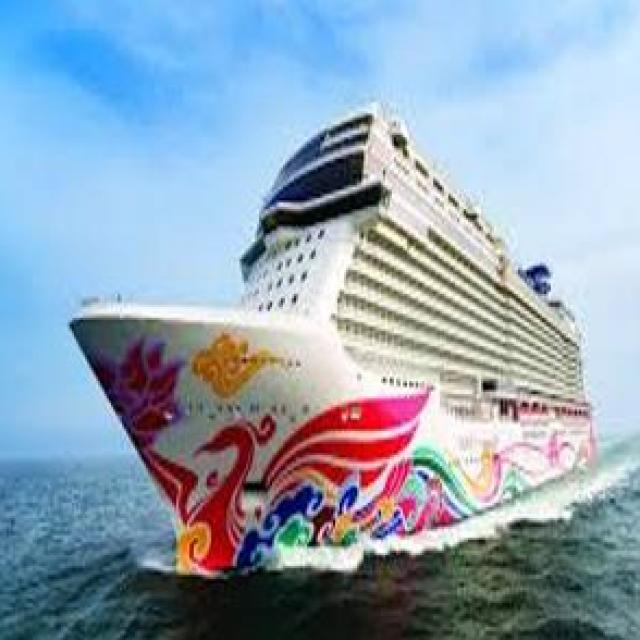passenger ship: (66, 92, 605, 574)
